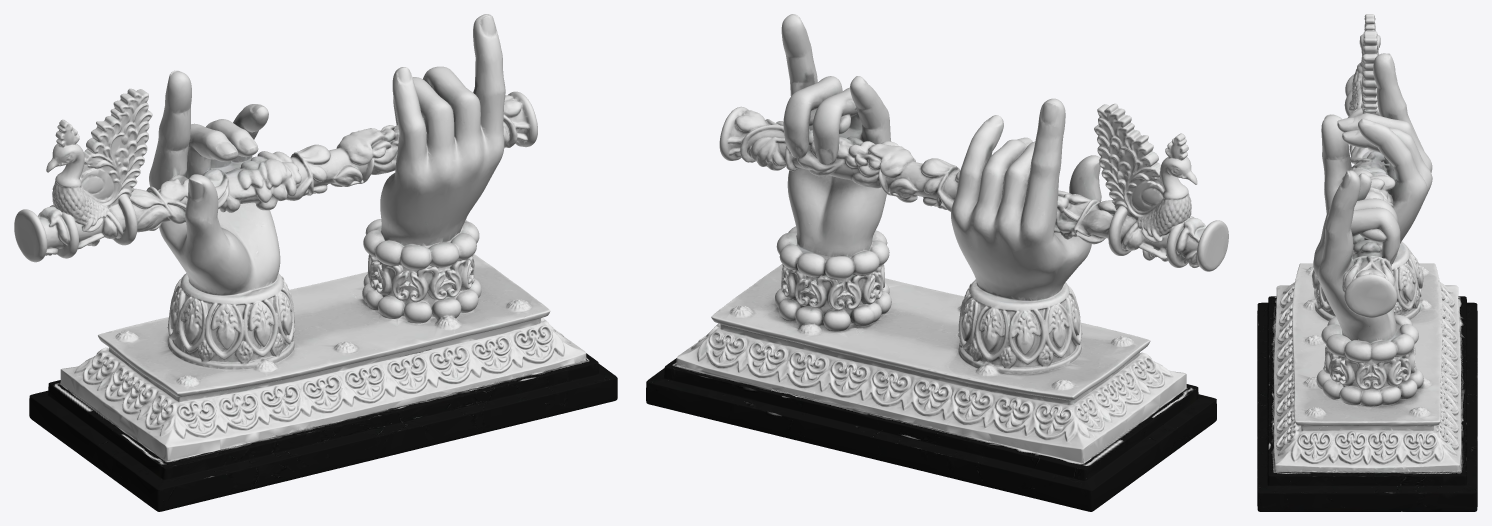
Rendered from liv-silver-bansuri.glb.
The picture shows the model from 3 angles, left to right: view 1: azimuth 30°, elevation 25°; view 2: azimuth 150°, elevation 25°; view 3: azimuth 270°, elevation 25°; orthographic projection. The views are drawn at different scales.
Size of the model in its own units: 1.9 by 1.26 by 0.814.
Materials: 1 (1 with a texture image).
